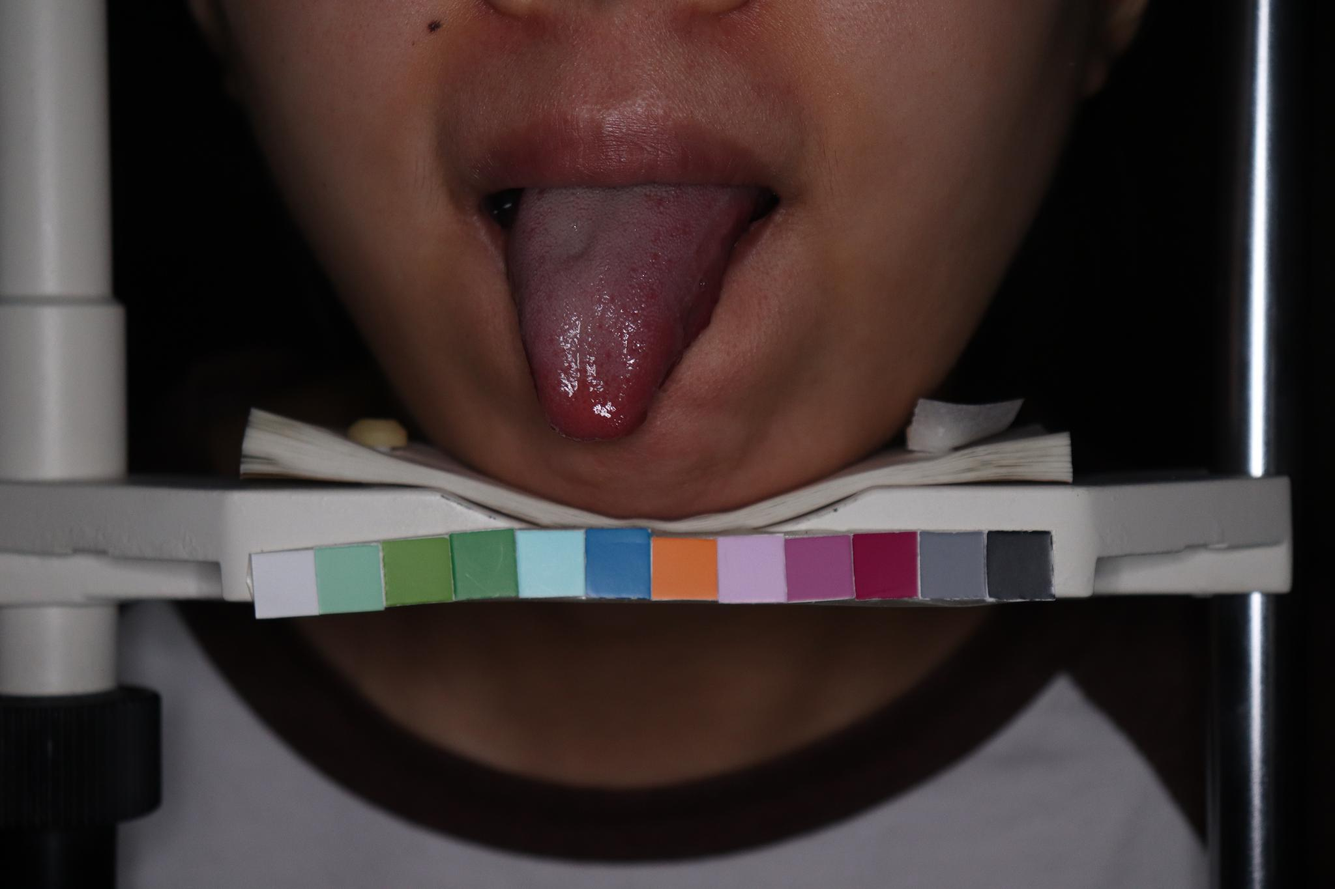baitaishe: (507, 181, 758, 441)
hongshe: (506, 181, 757, 441)
shoushe: (506, 181, 757, 441)
